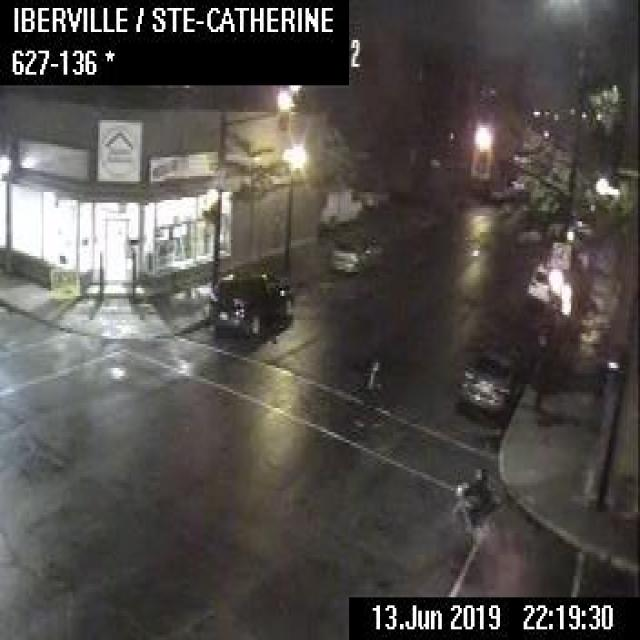cyclist: (442, 463, 518, 554)
pedestrian: (354, 349, 386, 443)
vehicle: (209, 264, 296, 341), (460, 333, 517, 414), (327, 232, 393, 275), (318, 185, 365, 228), (526, 264, 552, 307)
